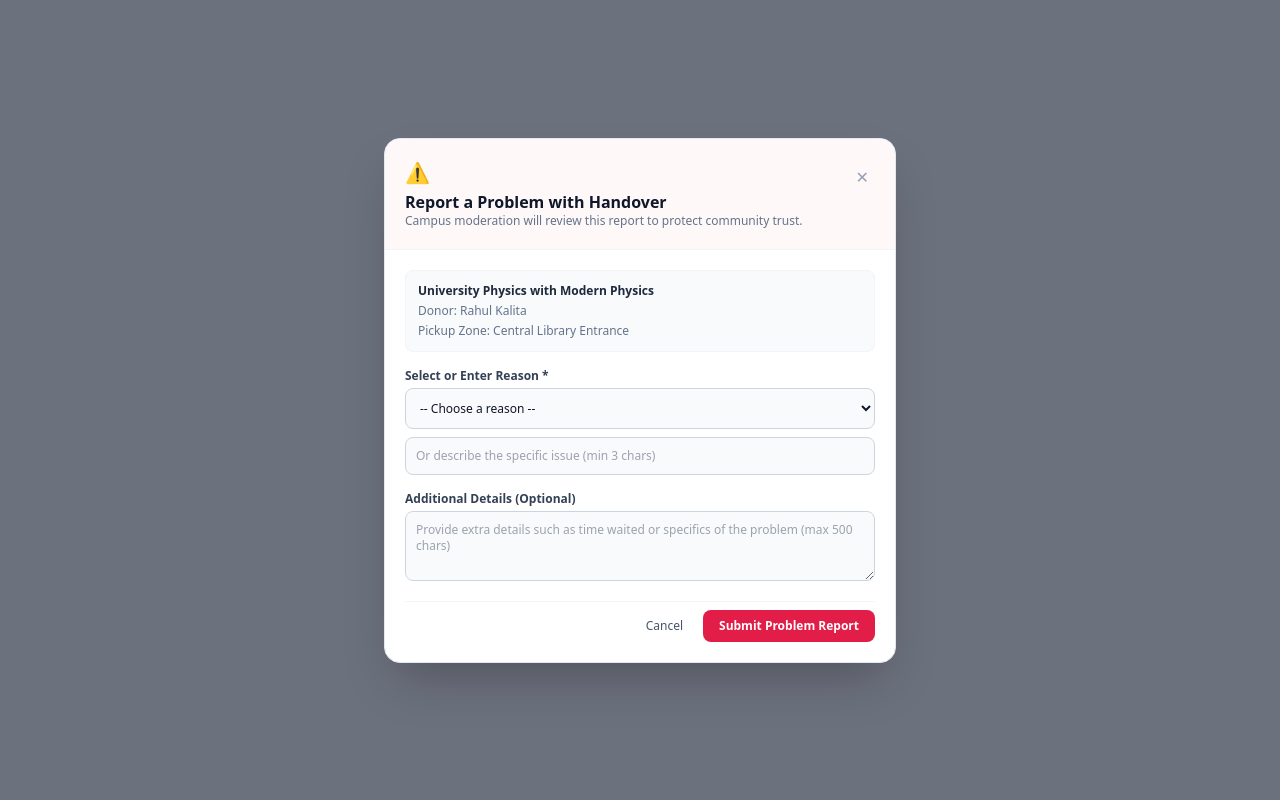
DisputeModal Component (CS-008) › validates minimum reason length and submits dispute
Later steps or results of the test are not shown.
Trying to submit empty shows error
Step 1. Click the button with test id "submit-dispute-btn" → point(789, 626), box [703,610,875,642]
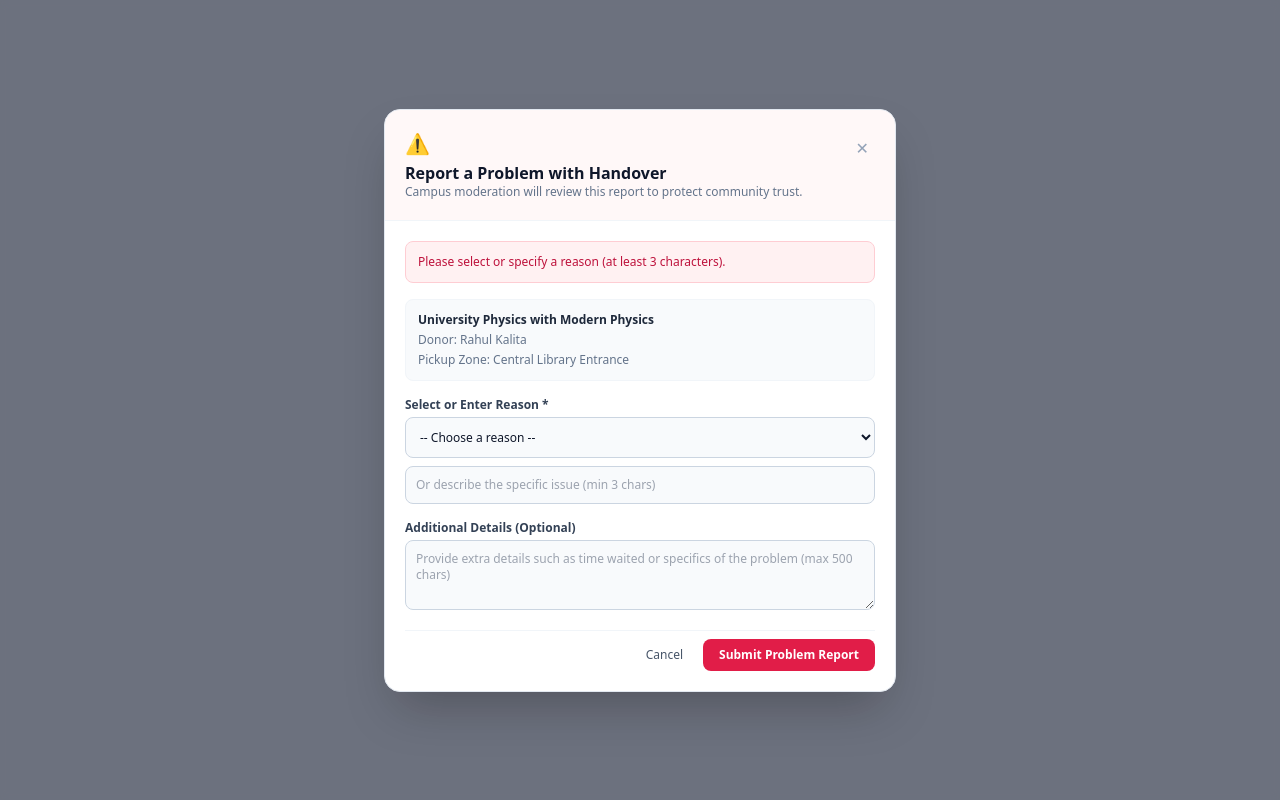
Now the text "Please select or specify a reason (at least 3 characters)." is shown, box [405,240,875,282]
